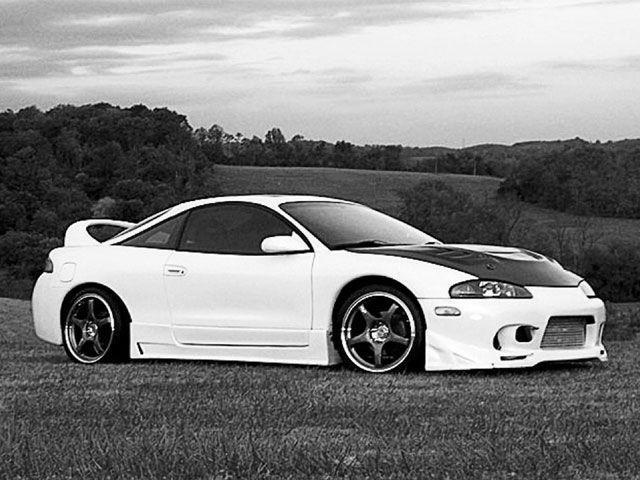car: (30, 191, 609, 380)
